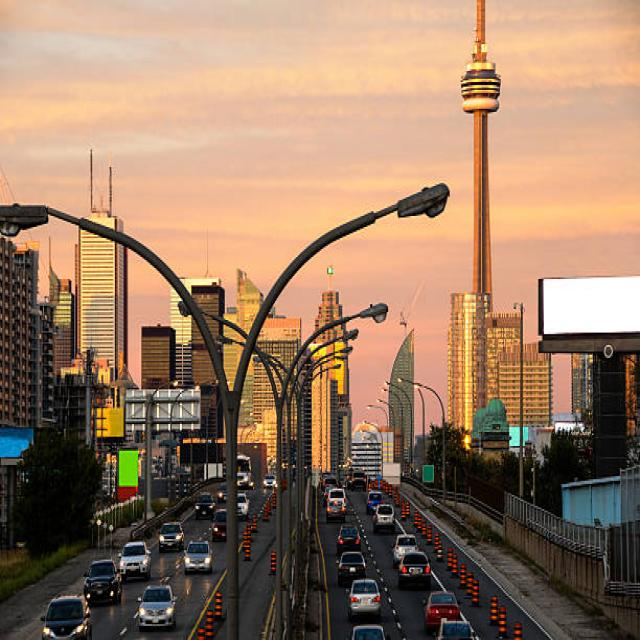Car: (40, 594, 92, 638), (137, 583, 177, 631), (83, 558, 121, 604), (422, 590, 460, 632), (345, 577, 381, 619), (118, 539, 151, 580), (397, 550, 431, 588), (183, 539, 212, 574), (337, 550, 366, 585), (391, 533, 418, 566), (435, 618, 479, 638), (158, 520, 184, 552), (336, 524, 360, 554), (372, 503, 396, 533), (193, 492, 214, 518), (210, 508, 226, 540), (349, 624, 385, 638)
